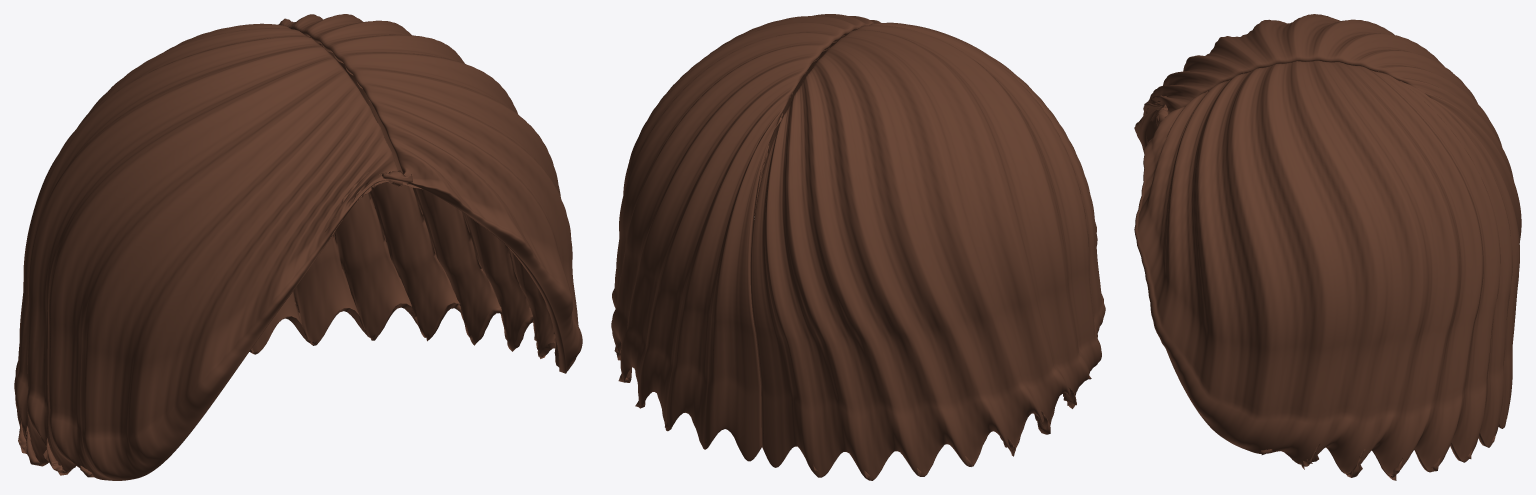
File: Masculine-flow-ears252-hair.glb
The picture shows the model from 3 angles, left to right: view 1: azimuth 30°, elevation 25°; view 2: azimuth 150°, elevation 25°; view 3: azimuth 270°, elevation 25°; orthographic projection. The views are drawn at different scales.
Visible parts, largest first — view 1: 226 hair / Hair252 / flowing sculpt flow.001; view 2: 226 hair / Hair252 / flowing sculpt flow.001; view 3: 226 hair / Hair252 / flowing sculpt flow.001.
Boxes of the visible parts, left/top/right/bottom form: 226 hair / Hair252 / flowing sculpt flow.001: left=14, top=14, right=582, bottom=480; 226 hair / Hair252 / flowing sculpt flow.001: left=611, top=14, right=1105, bottom=480; 226 hair / Hair252 / flowing sculpt flow.001: left=1134, top=14, right=1521, bottom=480.
Bounding box in the file's own units: 1.11 × 0.8603 × 0.8447.
